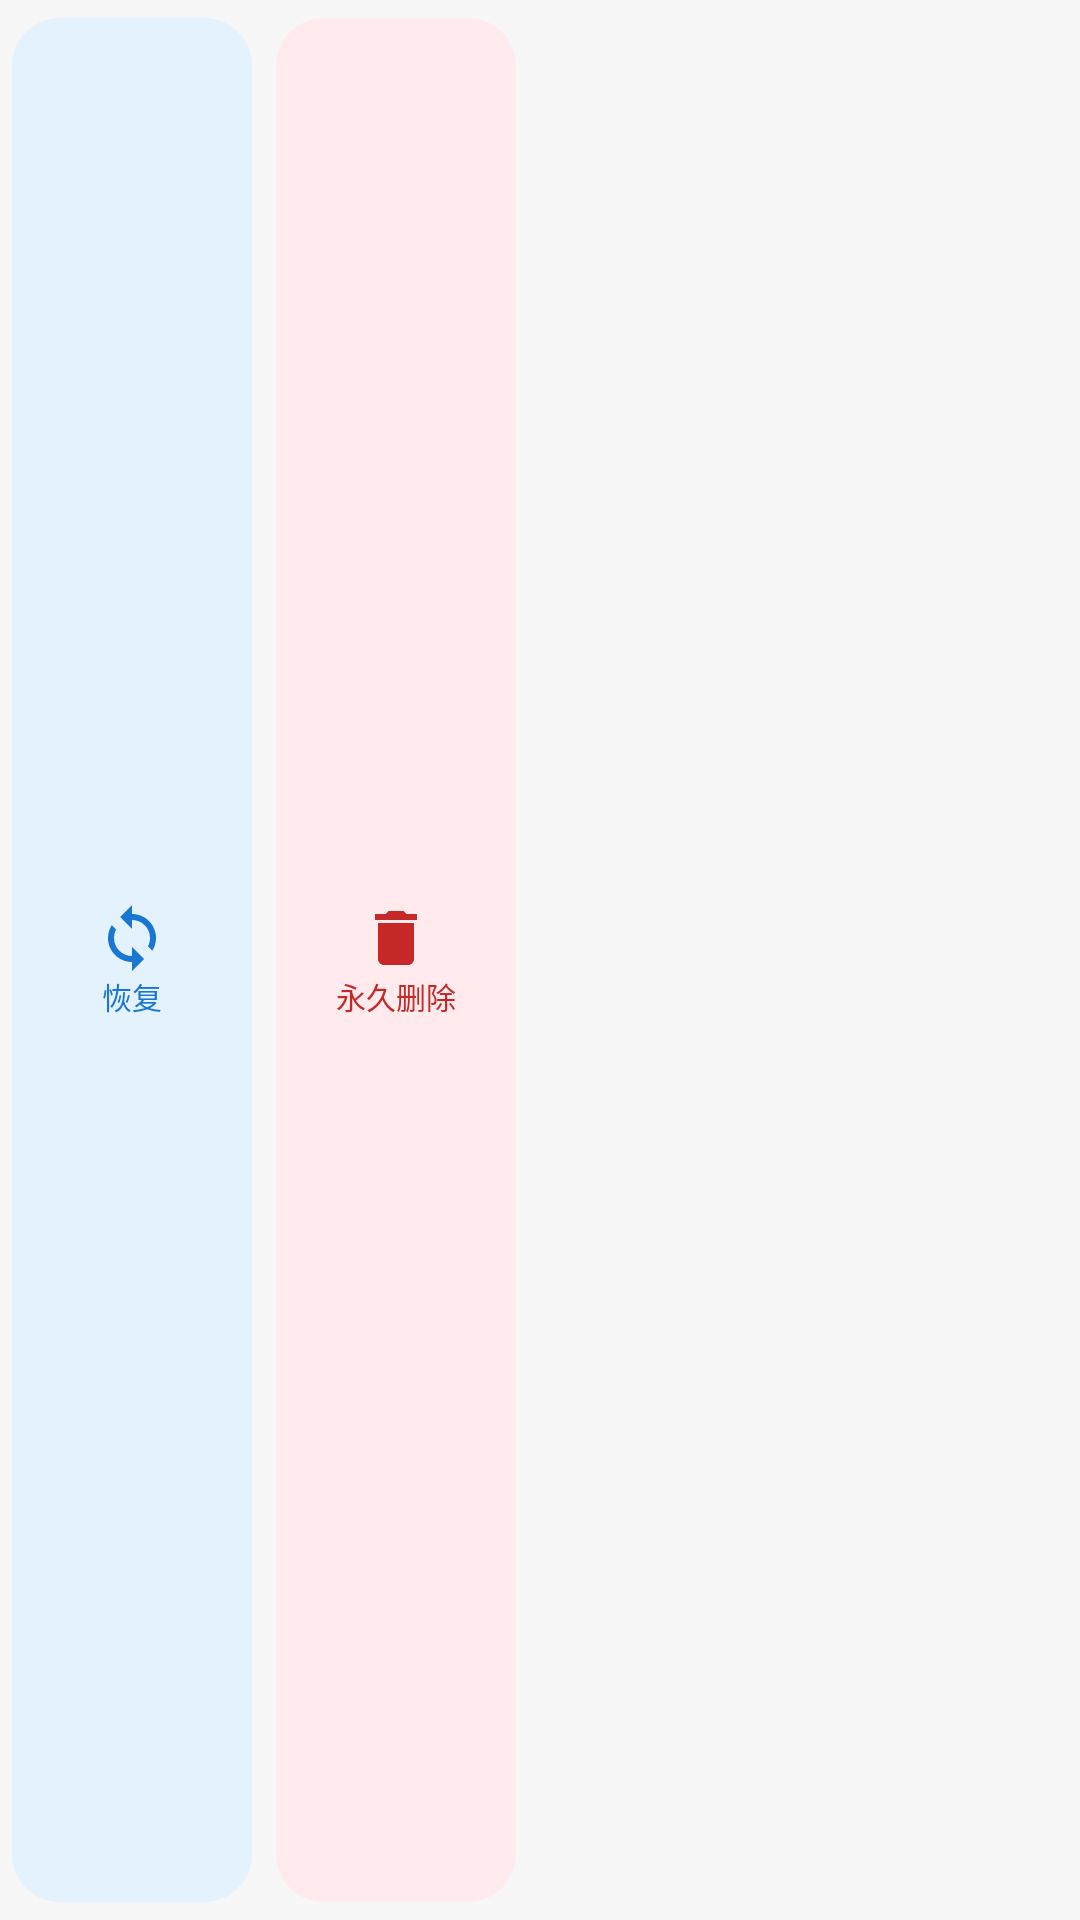

Point at icon controls on the screen. Image size 1080*1920, points as point (x, y).
sync: point (132, 938)
